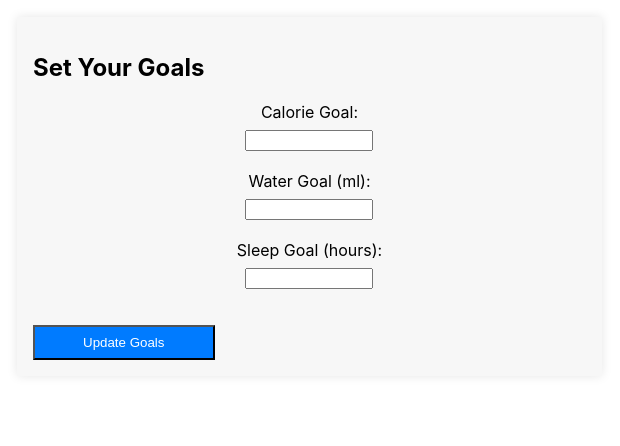
Scenario: goals update succeeds with valid inputs
The width and height of the screenshot is (620, 446).
Step 1. Type "2000" into the number field labelled "Calorie Goal:" → point(310, 140), box [246,130,374,151]
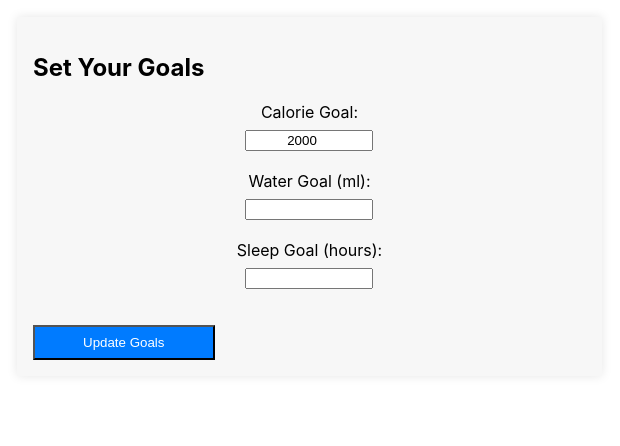
Step 2. Type "2000" into the number field labelled "Water Goal (ml):" → point(310, 209), box [246,199,374,220]
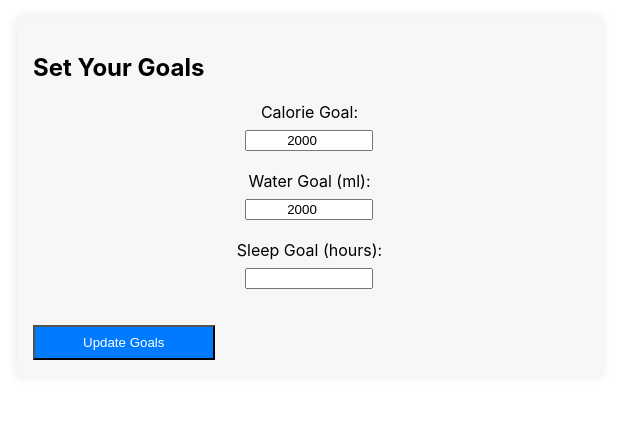
Step 3. Type "8" into the number field labelled "Sleep Goal (hours):" → point(310, 278), box [246,268,374,289]
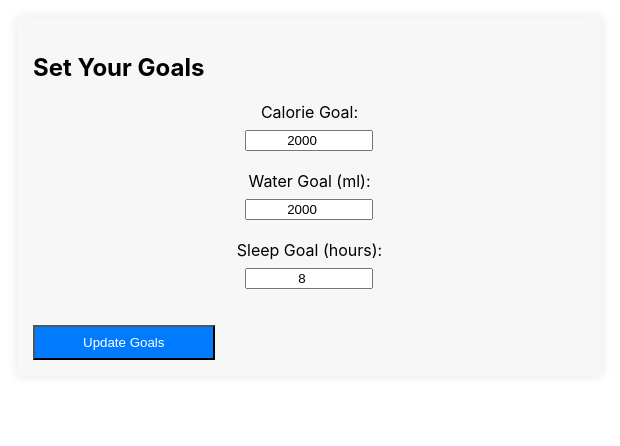
Step 4. Click the button "Update Goals" → point(124, 342), box [33,325,214,360]
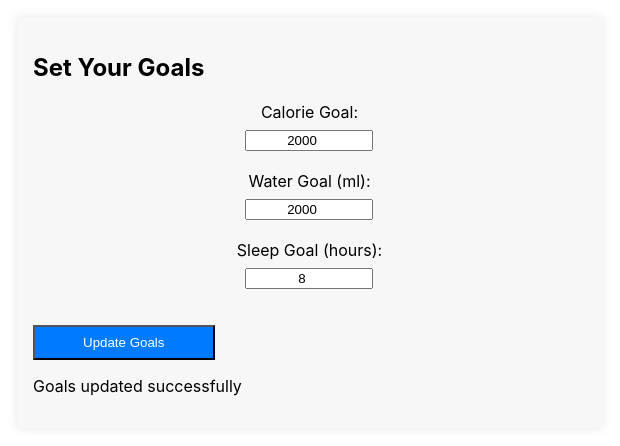
Expected: the text "Goals updated successfully" is shown, [33,376,242,396]
